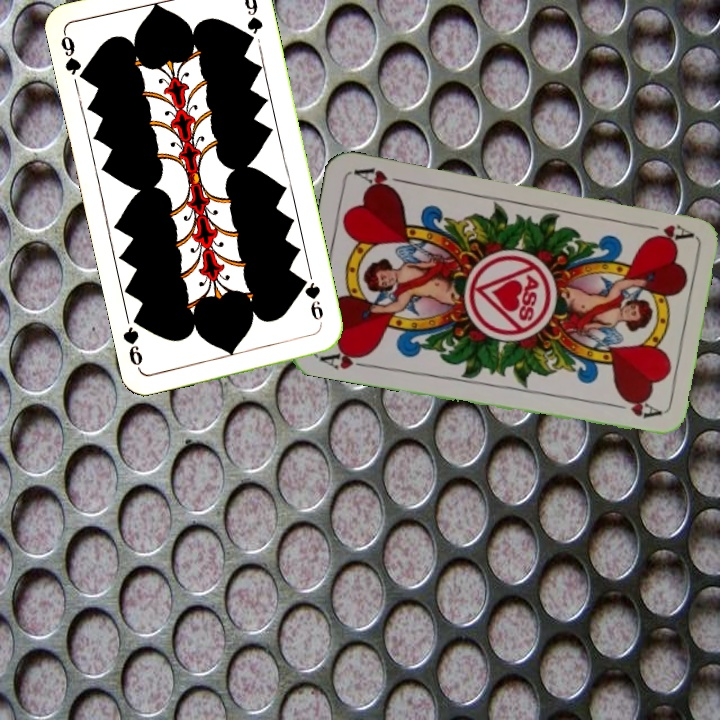G9: (56, 29, 91, 85), (297, 274, 326, 330)
HA: (316, 345, 375, 372), (634, 219, 694, 244)
